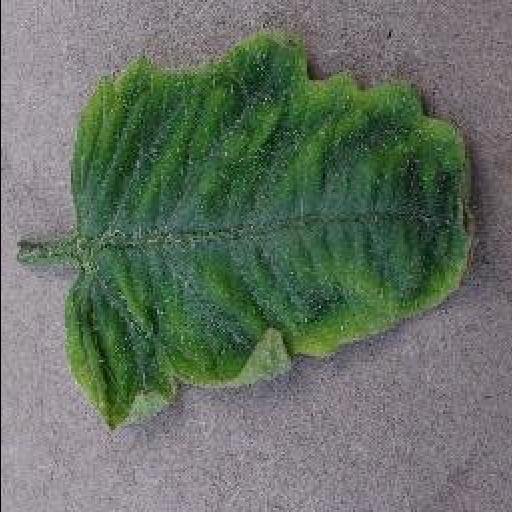disease_tomato: (60, 31, 482, 436)
